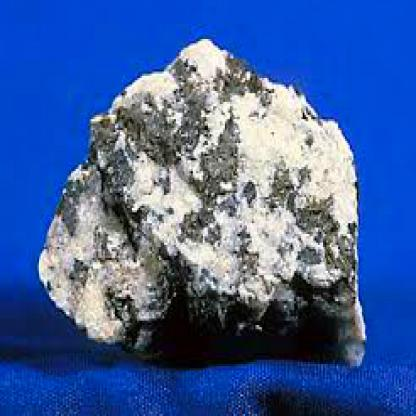Igneous_Diorite: (37, 35, 370, 368)
